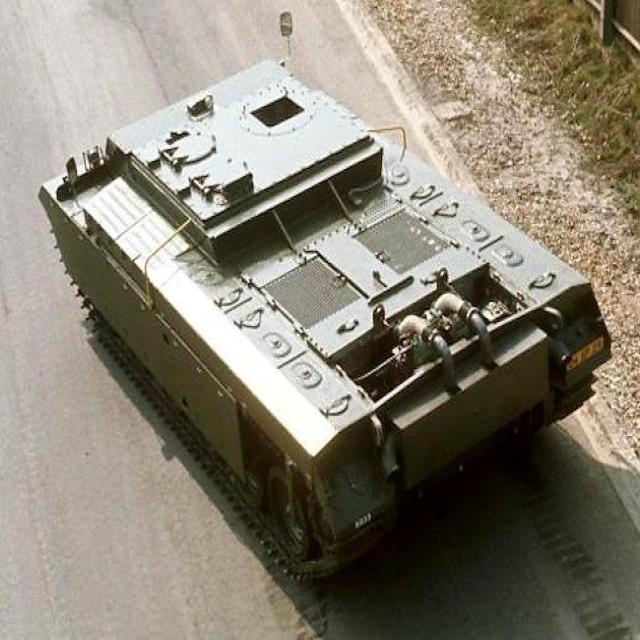Tanks: (38, 48, 614, 540)
